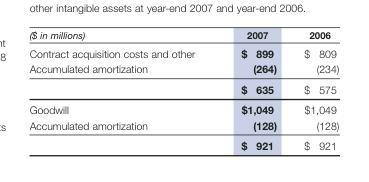table: (28, 28, 338, 151)
table column: (28, 28, 217, 151), (217, 28, 289, 151), (289, 28, 338, 151)
table column header: (28, 28, 338, 43)
table row: (28, 78, 338, 99), (28, 60, 338, 78), (28, 116, 338, 134), (28, 43, 338, 60), (28, 99, 338, 116), (28, 134, 338, 151), (28, 28, 338, 43)
